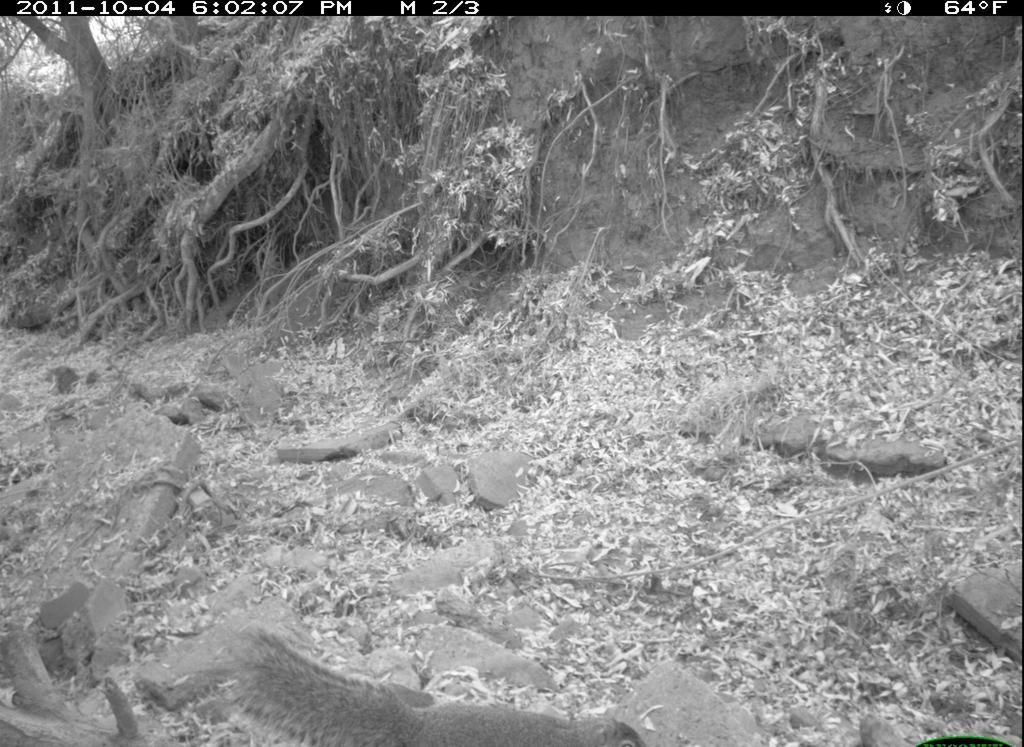squirrel: (200, 609, 653, 747)
